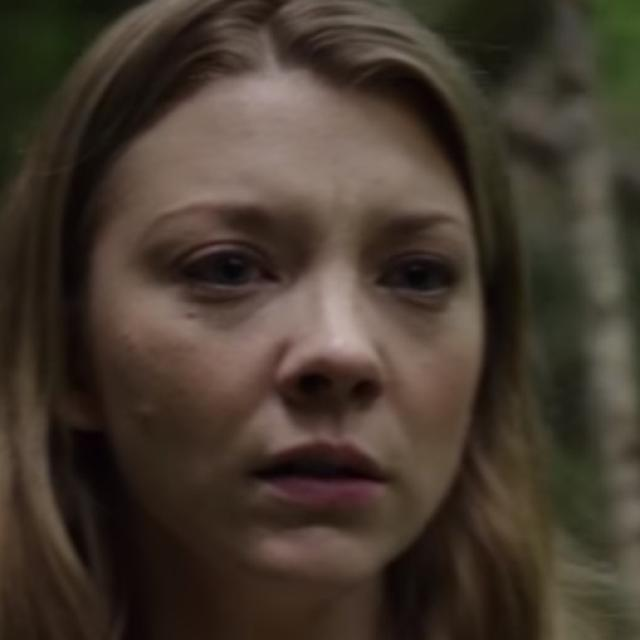Depress: (86, 71, 489, 588)
